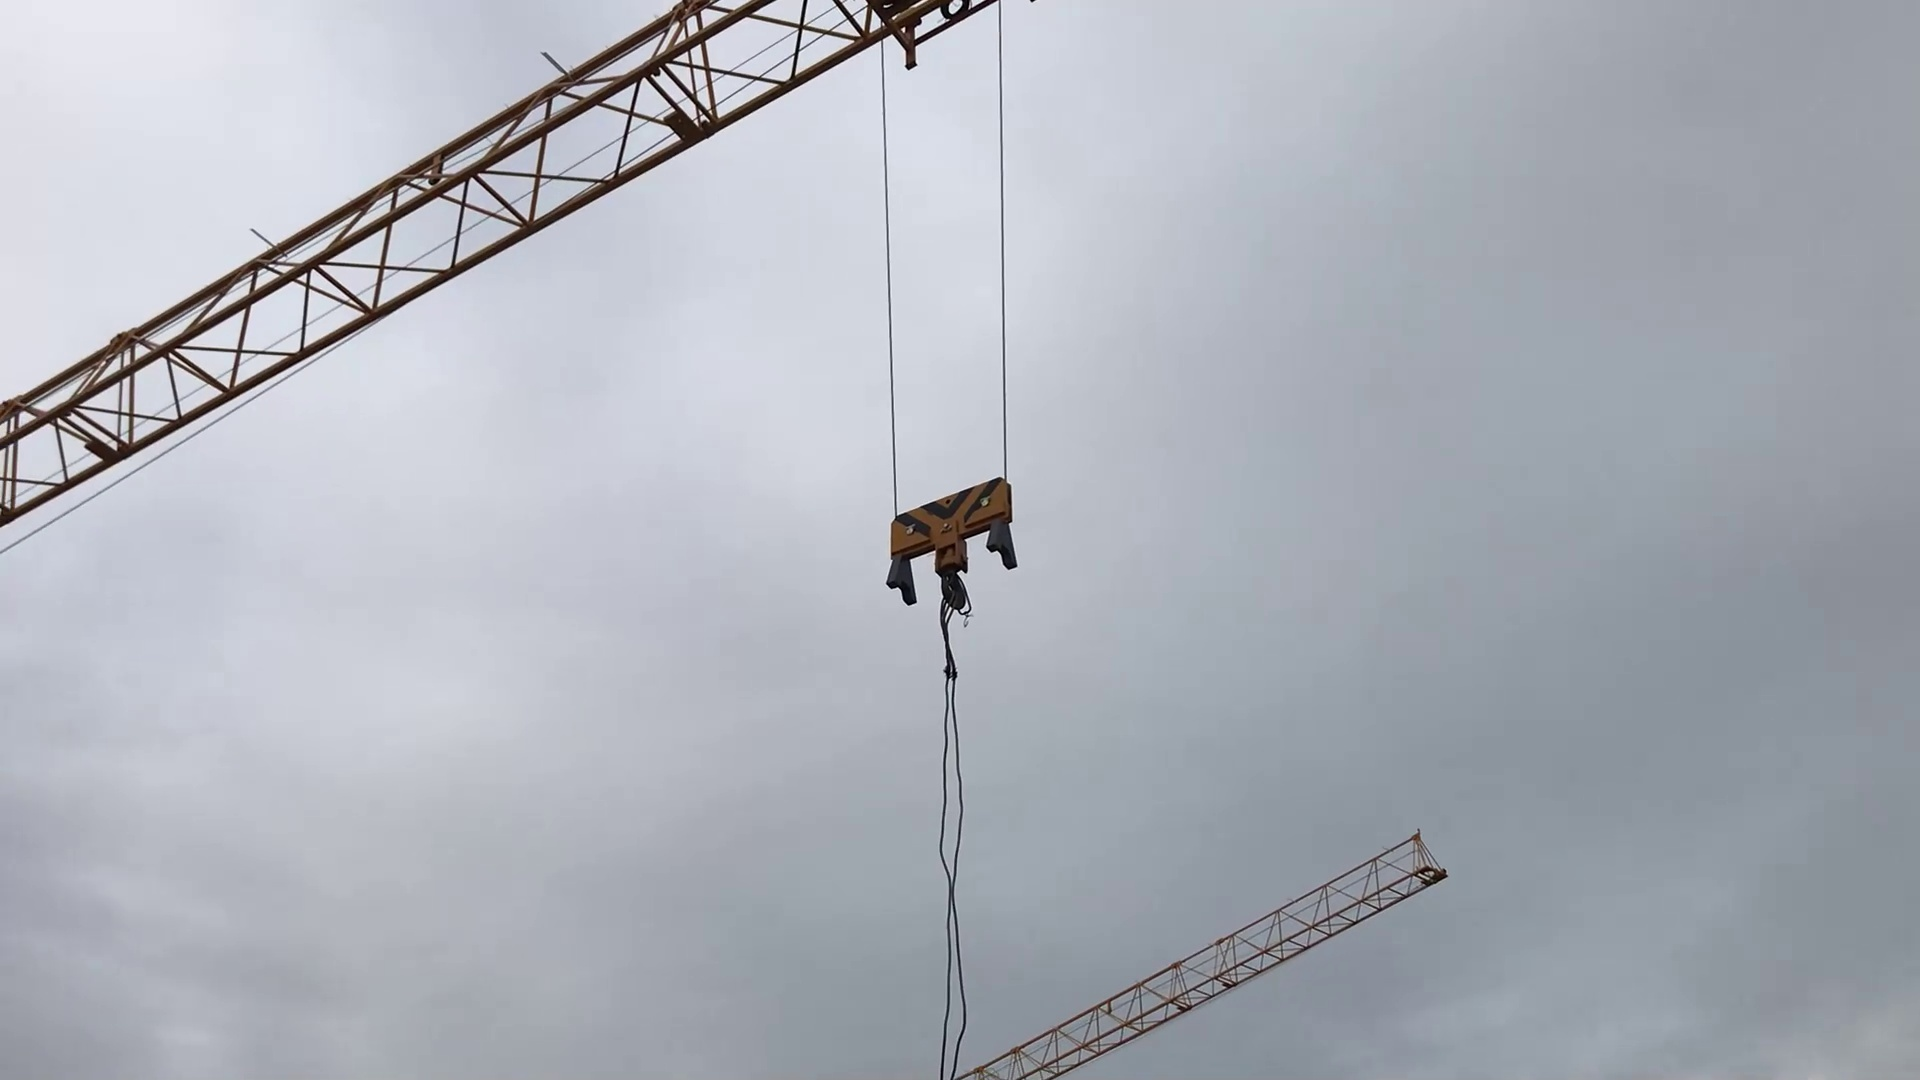hook: (885, 472, 1029, 638)
